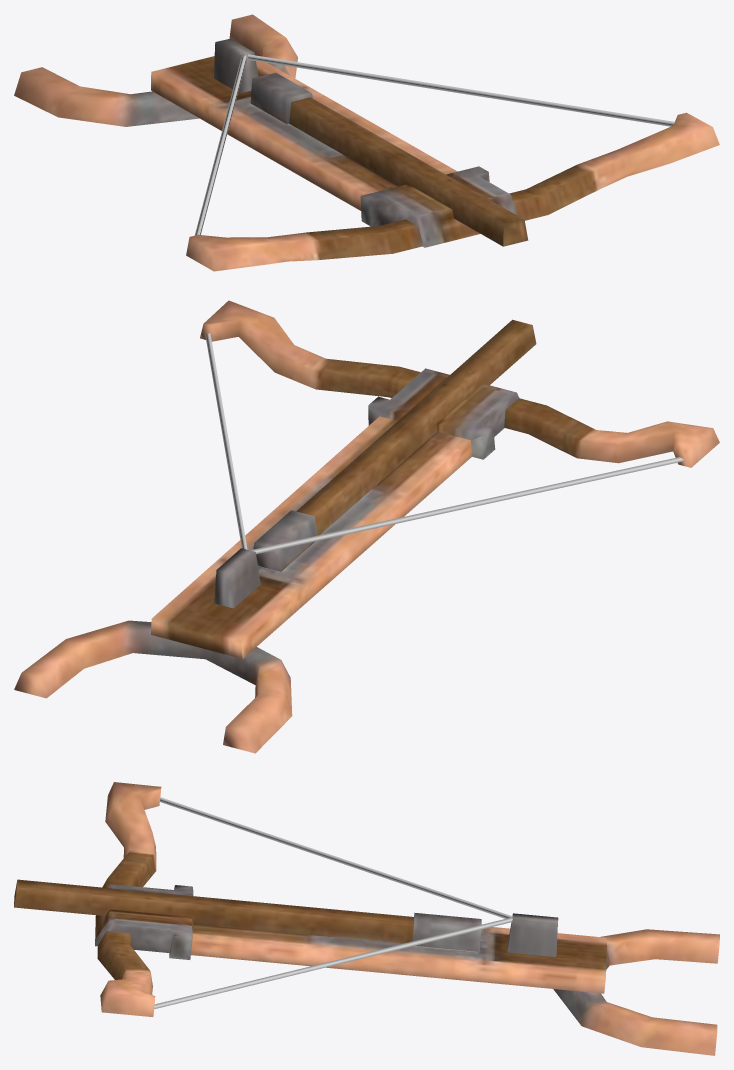
Rendered from weapon-bronzeweapons.glb.
3 views of the same model, one above another, from view 1: azimuth 30°, elevation 25°; view 2: azimuth 150°, elevation 25°; view 3: azimuth 270°, elevation 25° (orthographic). The views are drawn at different scales.
Bounding box in the file's own units: 0.9048 × 0.2197 × 1.21.
Materials: 1 (1 with a texture image).
